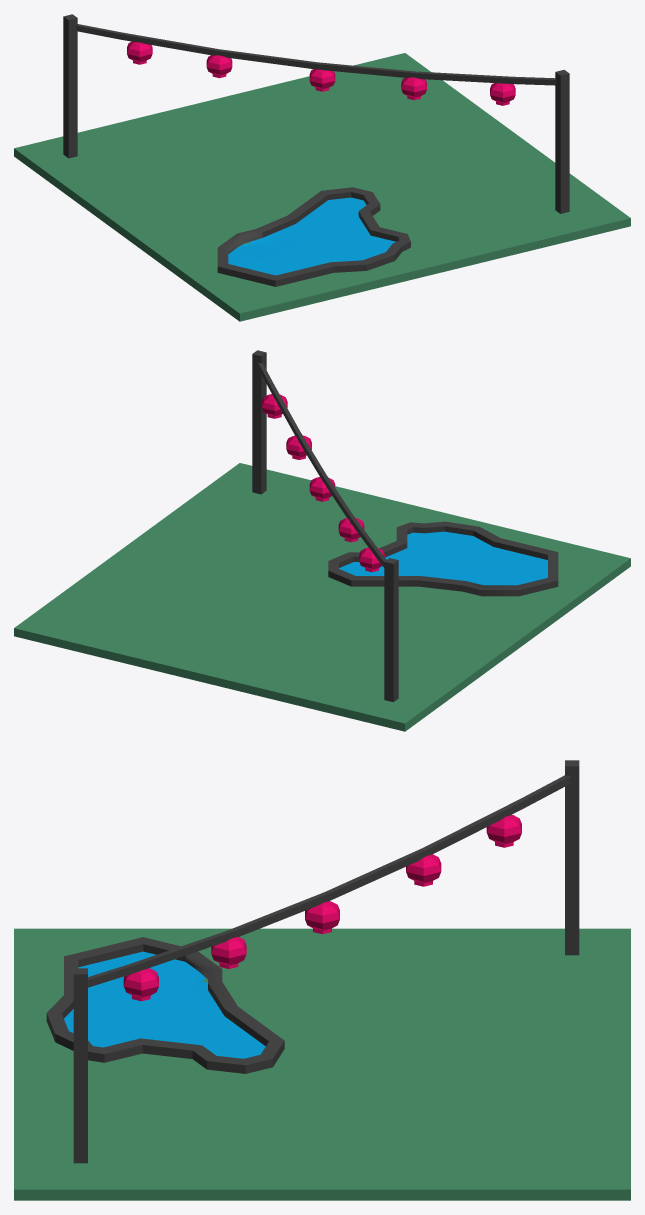
Rendered from park.fbx.
The picture shows the model from 3 angles, top to bottom: view 1: azimuth 30°, elevation 25°; view 2: azimuth 150°, elevation 25°; view 3: azimuth 270°, elevation 25°; orthographic projection. The views are drawn at different scales.
Parts seen in each view (by area): view 1: pCylinder2; view 2: pCylinder2; view 3: pCylinder2.
Part boxes in pixels (x1=…): pCylinder2: x1=14, y1=14, x2=630, y2=321; pCylinder2: x1=14, y1=350, x2=630, y2=731; pCylinder2: x1=14, y1=760, x2=630, y2=1200.
Bounding box in the file's own units: 140 × 50.13 × 140.
